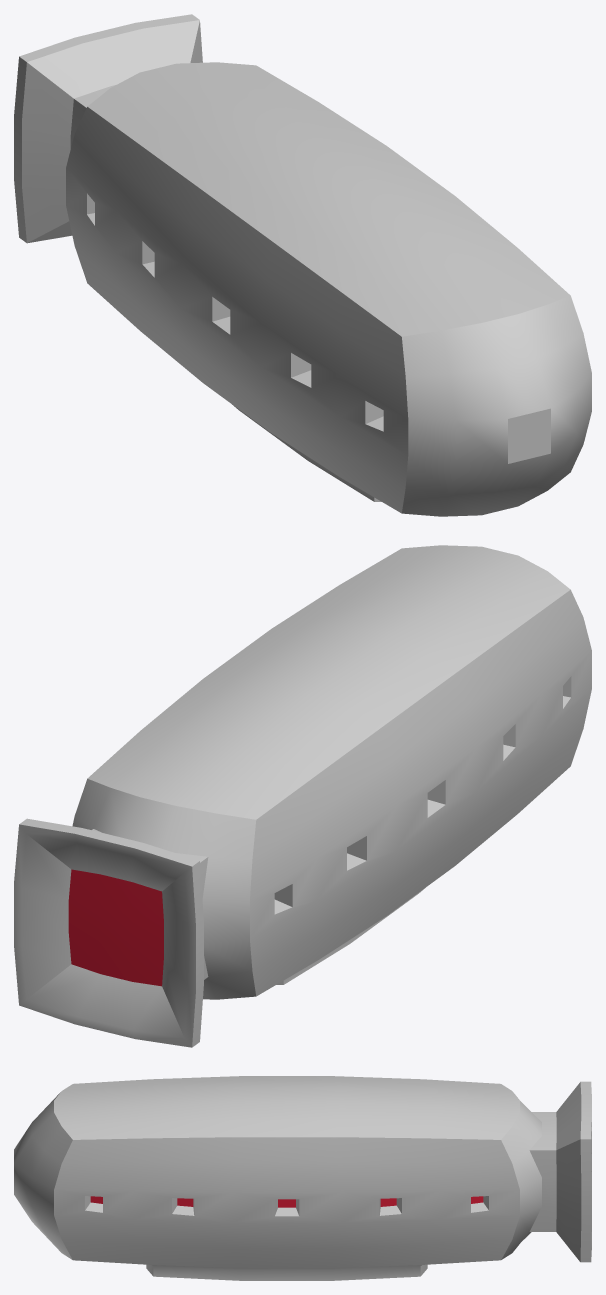
File: ShipTemp.fbx
3 views of the same model, one above another, from view 1: azimuth 30°, elevation 25°; view 2: azimuth 150°, elevation 25°; view 3: azimuth 270°, elevation 25° (orthographic). The views are drawn at different scales.
Parts seen in each view (by area): view 1: ShipTemp; view 2: ShipTemp; view 3: ShipTemp.
Boxes of the visible parts, x1,y1,x2,y2 form: ShipTemp: (14,14,591,516); ShipTemp: (14,545,591,1047); ShipTemp: (14,1076,591,1280).
Bounding box in the file's own units: 225 × 245 × 767.
